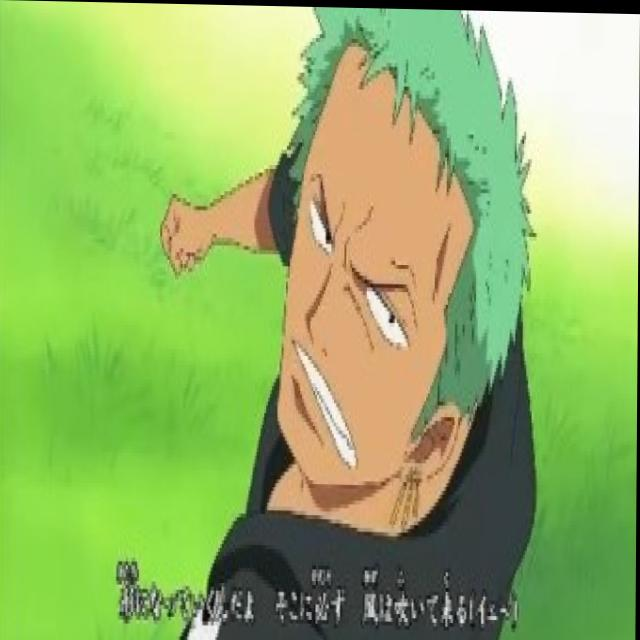Zoro: (263, 5, 534, 529)
